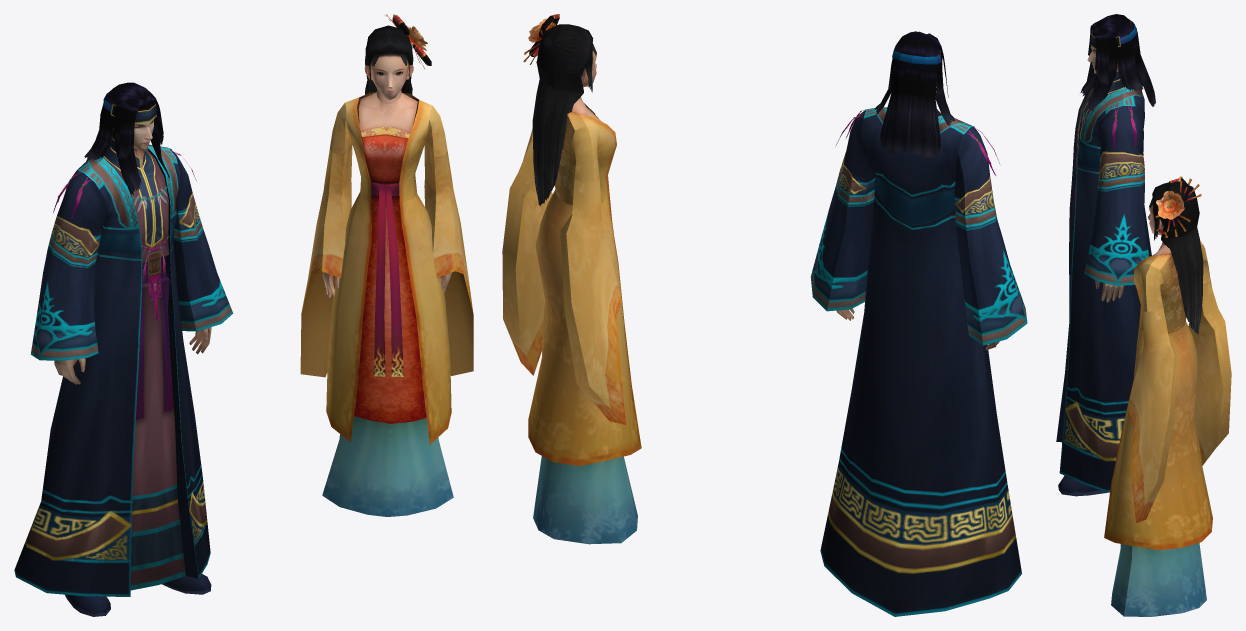
File: chinese_couple.FBX
The picture shows the model from 3 angles, left to right: view 1: azimuth 30°, elevation 25°; view 2: azimuth 150°, elevation 25°; view 3: azimuth 270°, elevation 25°; orthographic projection. The views are drawn at different scales.
Parts seen in each view (by area): view 1: 3958a28.obj, 2c1bffc0.obj, 3623b8b8.obj, 394fac0.obj, 2c1c36e8.obj, 2c1c0ac8.obj, 394e4b0.obj, 394ad88.obj, 3623efe0.obj, 3957f20.obj; view 2: 3958a28.obj, 3623b8b8.obj, 2c1bffc0.obj, 2c1c36e8.obj, 2c1c0ac8.obj, 394ad88.obj, 3623efe0.obj, 394fac0.obj; view 3: 2c1bffc0.obj, 3958a28.obj, 3623b8b8.obj, 2c1c0ac8.obj, 2c1c36e8.obj, 394ad88.obj, 394fac0.obj, 3623efe0.obj, 3633ab28.obj, 3957f20.obj, 3623adb0.obj, 3959530.obj.
Part boxes in pixels (x1,y1,x2,y2): 3958a28.obj: (14, 262, 210, 596); 2c1bffc0.obj: (322, 192, 453, 516); 3623b8b8.obj: (30, 138, 233, 360); 394fac0.obj: (330, 89, 447, 202); 2c1c36e8.obj: (300, 149, 352, 377); 2c1c0ac8.obj: (424, 150, 473, 375); 394e4b0.obj: (374, 185, 403, 376); 394ad88.obj: (364, 25, 413, 99); 3623efe0.obj: (86, 82, 162, 175); 3957f20.obj: (65, 574, 211, 616); 3958a28.obj: (820, 226, 1021, 616); 3623b8b8.obj: (810, 107, 1027, 345); 2c1bffc0.obj: (528, 190, 641, 544); 2c1c36e8.obj: (560, 179, 625, 425); 2c1c0ac8.obj: (502, 135, 552, 375); 394ad88.obj: (532, 24, 596, 171); 3623efe0.obj: (881, 31, 945, 139); 394fac0.obj: (531, 97, 616, 205); 2c1bffc0.obj: (1104, 321, 1212, 616); 3958a28.obj: (1056, 180, 1151, 492); 3623b8b8.obj: (1072, 70, 1148, 285); 2c1c0ac8.obj: (1126, 308, 1178, 523); 2c1c36e8.obj: (1188, 278, 1231, 465); 394ad88.obj: (1148, 181, 1203, 305); 394fac0.obj: (1133, 240, 1210, 333); 3623efe0.obj: (1086, 14, 1151, 98); 3633ab28.obj: (1155, 176, 1201, 237); 3957f20.obj: (1058, 442, 1107, 496); 3623adb0.obj: (1117, 45, 1135, 73); 3959530.obj: (1095, 280, 1123, 302).
Size of the model in its own units: 15.29 by 15.89 by 5.54.
